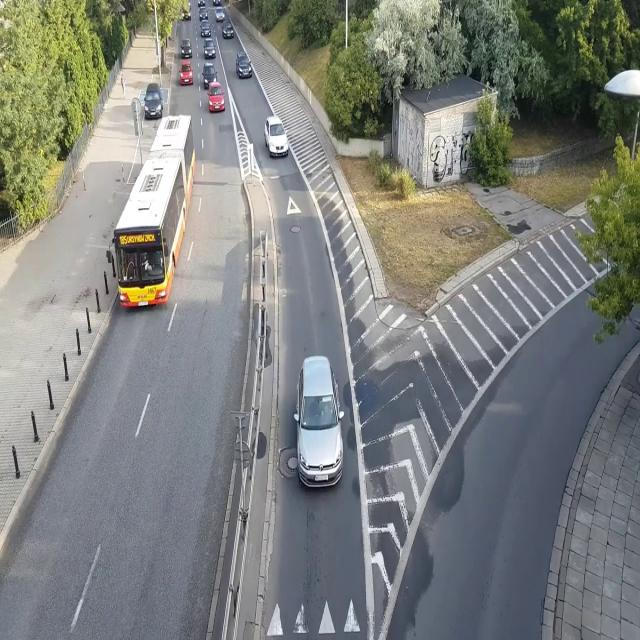bus: (109, 114, 196, 309)
car: (293, 352, 347, 492), (264, 115, 289, 159), (142, 84, 164, 118), (208, 81, 225, 114), (236, 51, 253, 78), (202, 63, 218, 88), (179, 59, 194, 85), (203, 37, 216, 60), (180, 37, 193, 58), (221, 19, 234, 40), (199, 20, 212, 38), (214, 6, 225, 22), (198, 7, 208, 20), (197, 0, 205, 6), (212, 0, 220, 5)
van: (179, 0, 192, 22)
